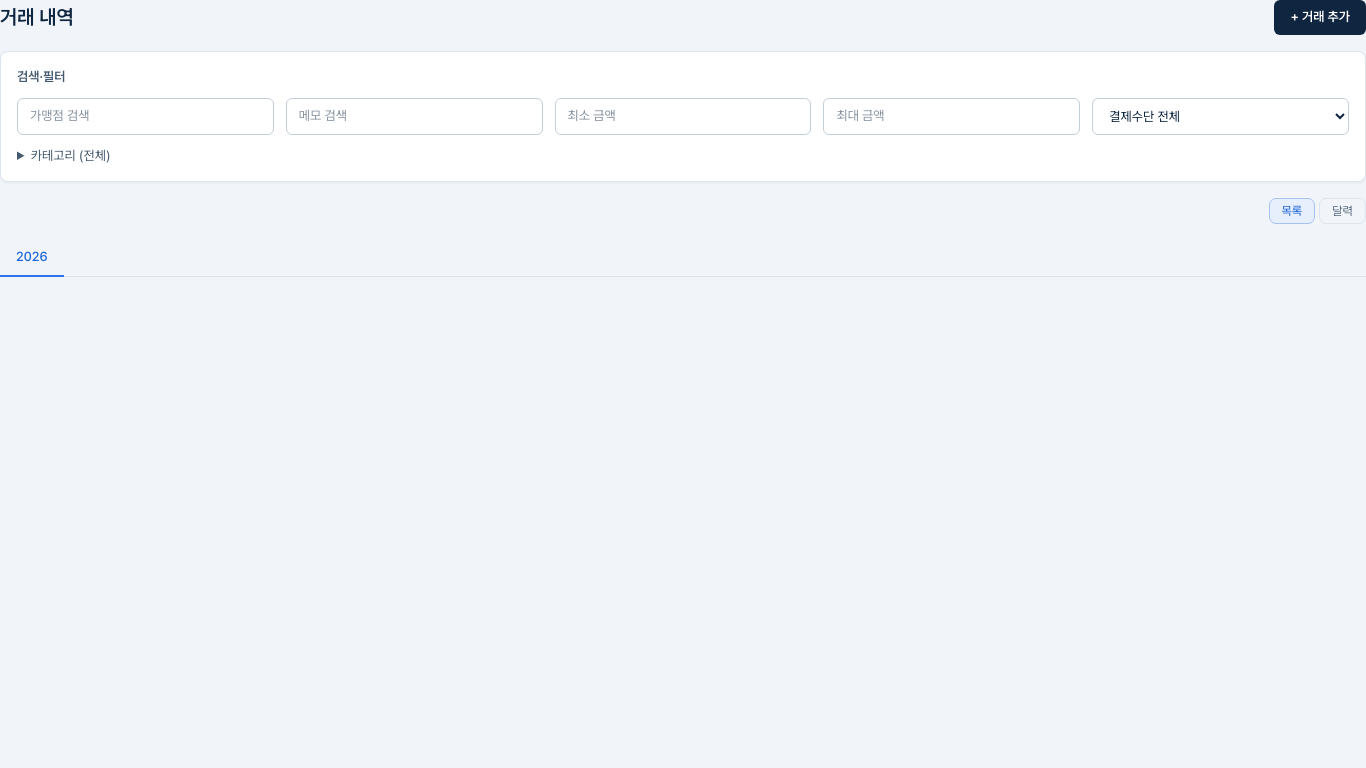
Test: 달력 보기가 말하는 것 › 거래가 없는 달이면 그렇다고 말한다
Click the button "달력" at (1343, 211), box [1319,198,1365,224]
(page scrolled)
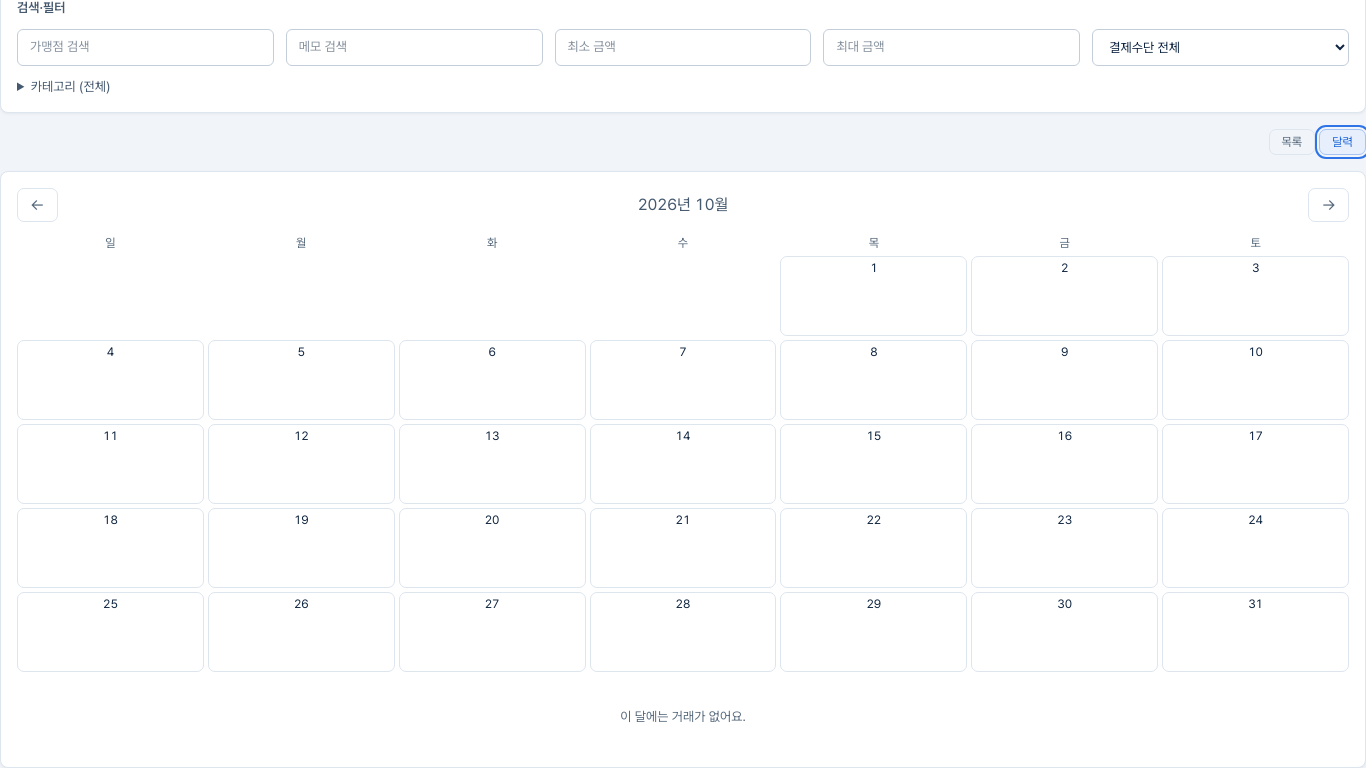
expect the text "이 달에는 거래가 없어요." is shown: met, box [620,709,746,724]
